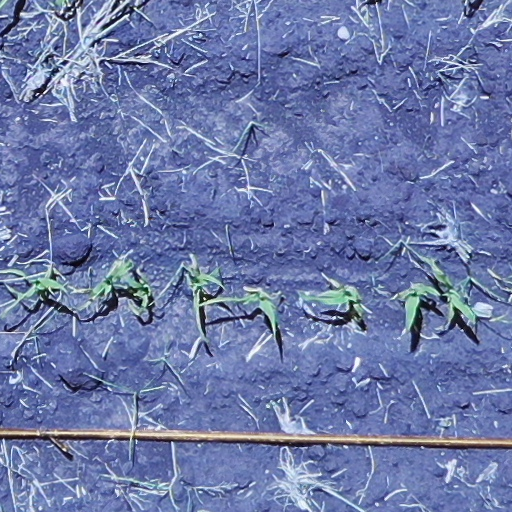planta: (422, 257, 478, 327), (187, 267, 224, 338), (217, 292, 276, 335), (299, 284, 364, 317), (88, 260, 135, 300), (407, 284, 442, 328), (9, 277, 65, 298), (124, 276, 151, 316)
